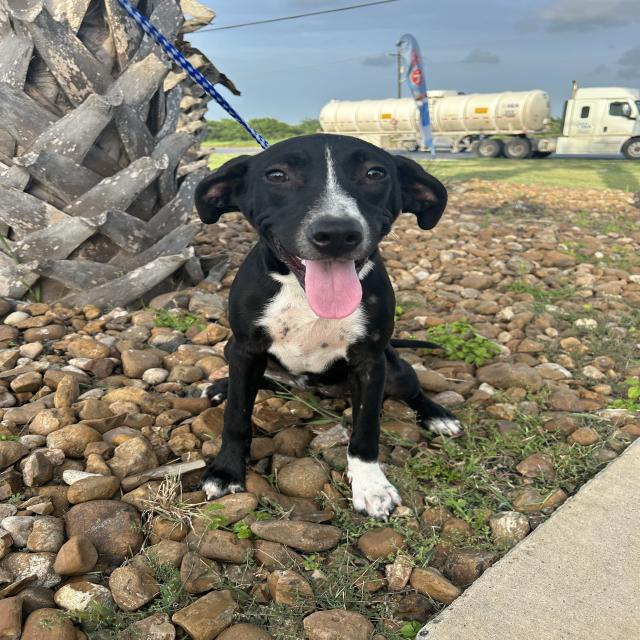labrador_retriever_dog: (171, 128, 478, 330)
